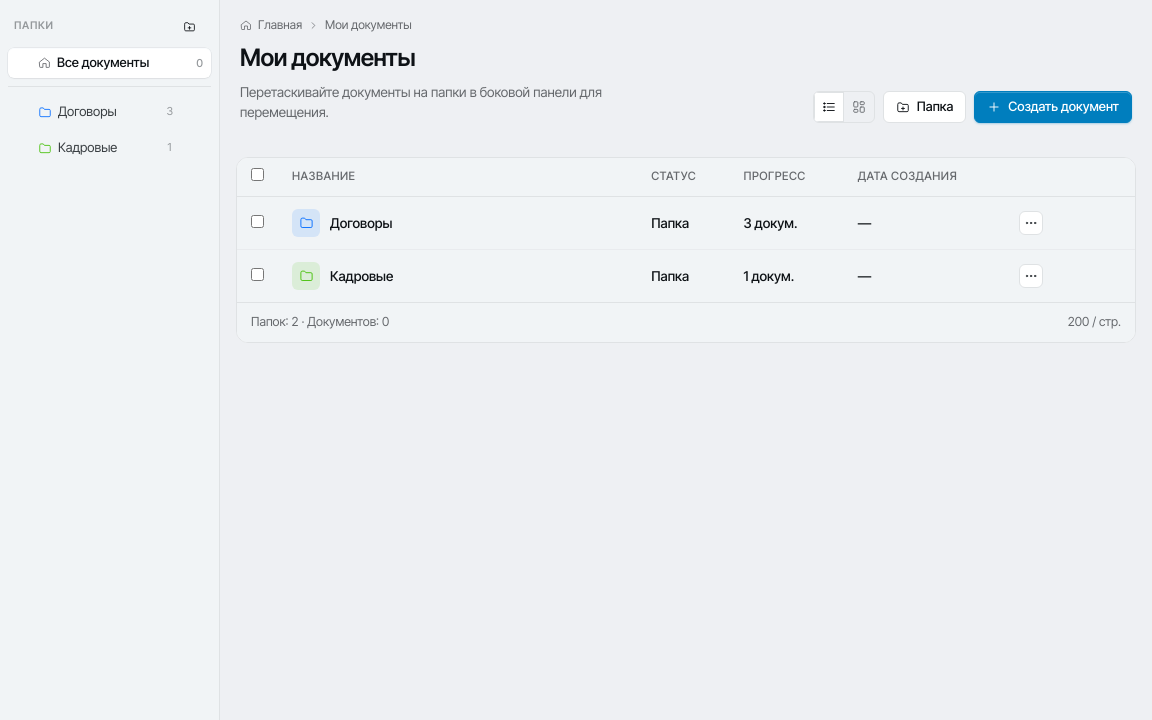
Test: DocumentsPage folder tree › clicking a folder in sidebar changes current folder
The width and height of the screenshot is (1152, 720).
Click the text "Договоры" below "Все документы": (87, 111) [58,103,117,119]
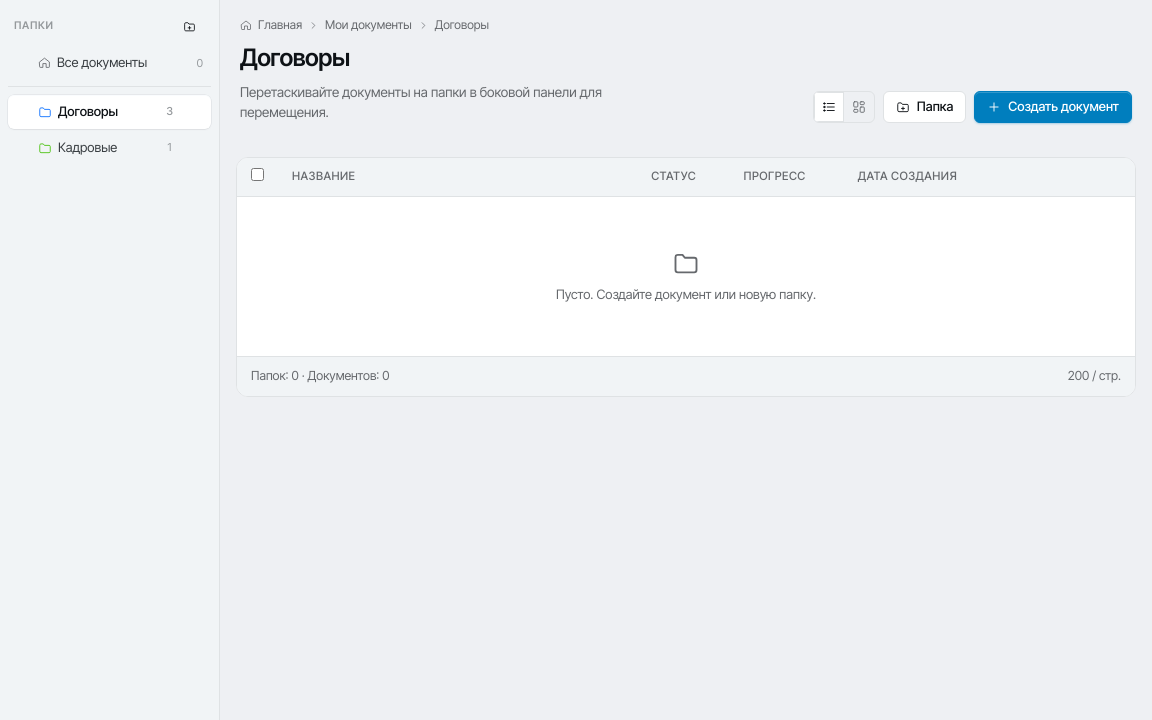
Expected: the heading "Договоры" is shown, [240,43,350,72]
